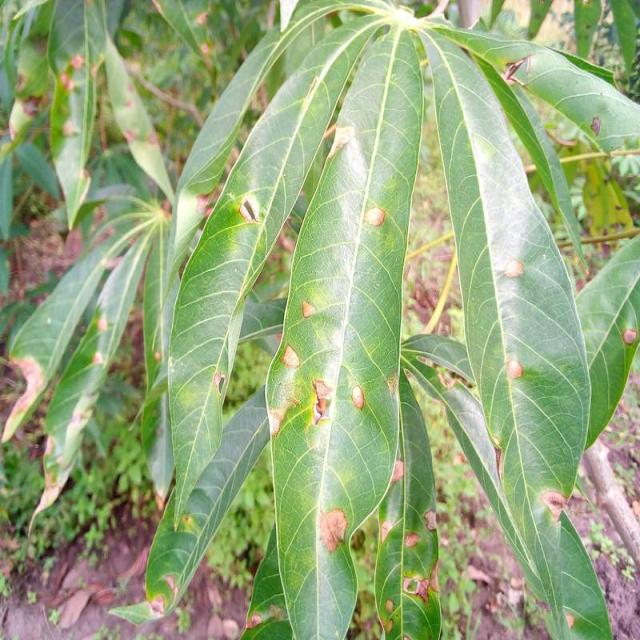cassava leaf: (134, 2, 636, 638), (414, 21, 610, 637), (262, 20, 425, 638)
